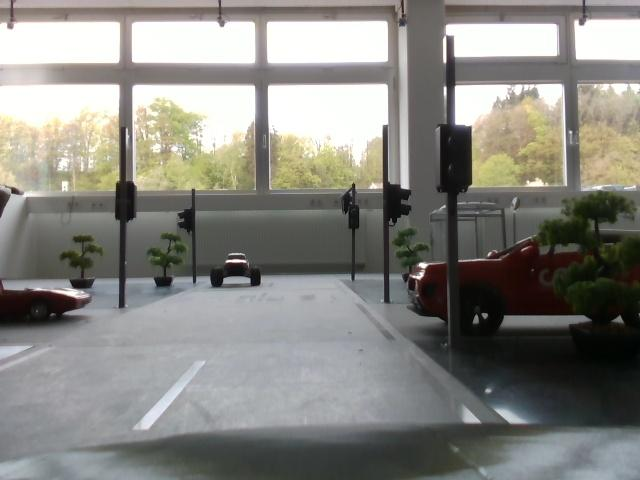car: (408, 227, 640, 334), (1, 269, 97, 326), (209, 251, 268, 297)
potted plant: (546, 197, 640, 339), (62, 237, 108, 292), (148, 233, 189, 290), (395, 230, 425, 283)
traffic light: (440, 124, 472, 190), (385, 181, 412, 221), (119, 182, 140, 222), (181, 206, 199, 237), (340, 192, 357, 214), (349, 206, 363, 232)
